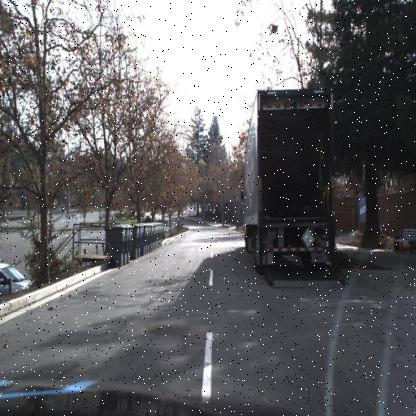truck: (239, 80, 344, 295)
